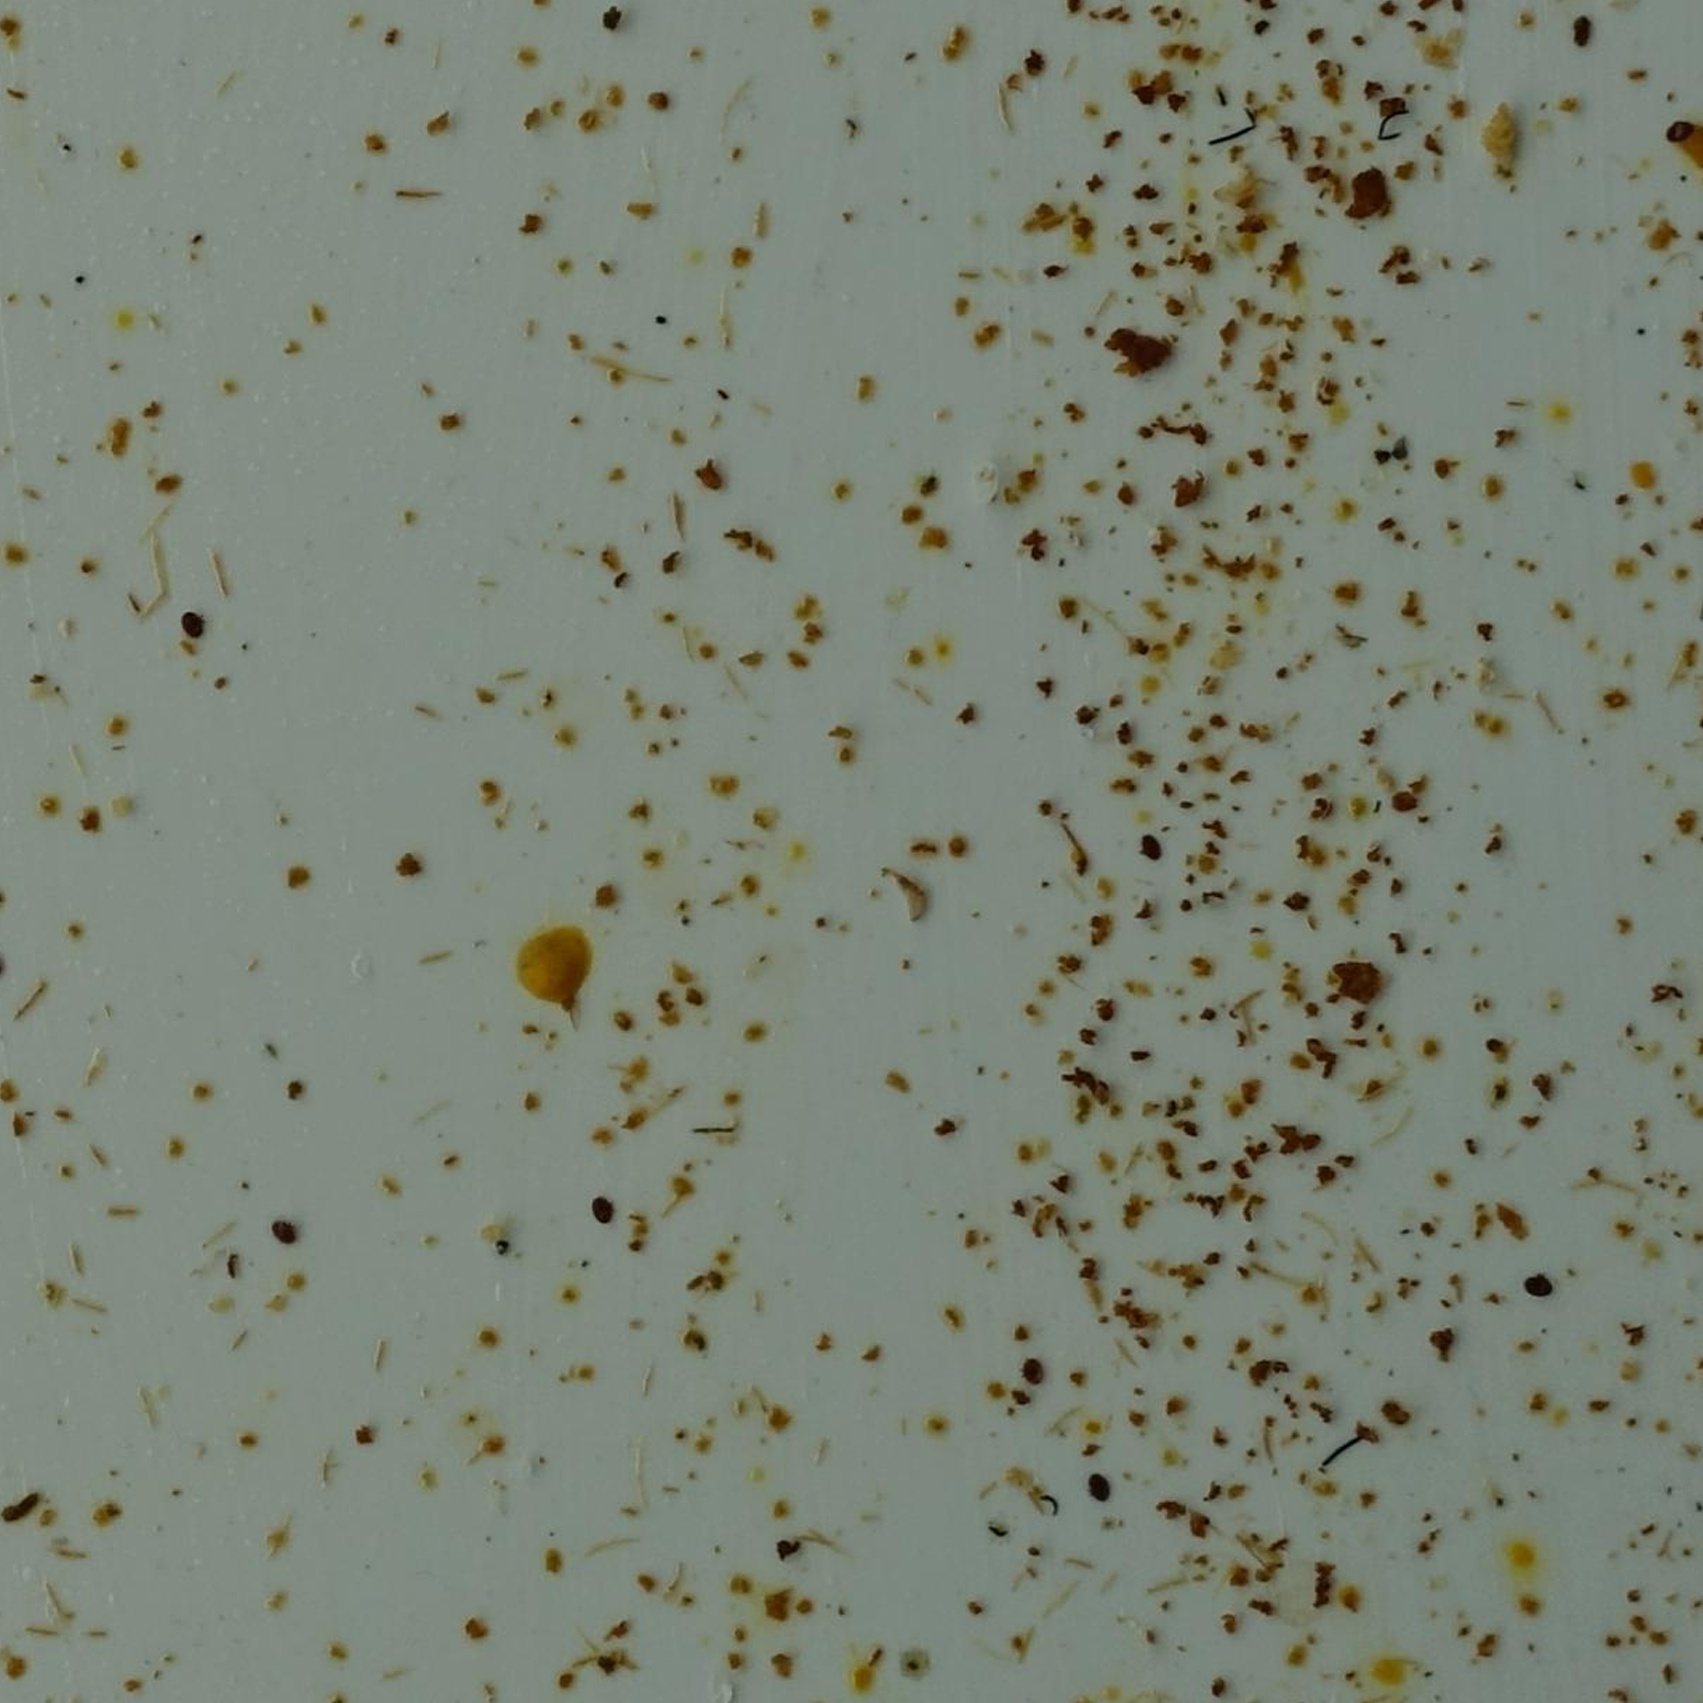Varroa: (1525, 1273, 1553, 1304), (1667, 115, 1695, 145), (591, 1196, 618, 1224), (1018, 1357, 1045, 1383), (1137, 834, 1163, 861), (274, 1213, 299, 1240), (1081, 1471, 1106, 1496), (179, 622, 203, 647)
